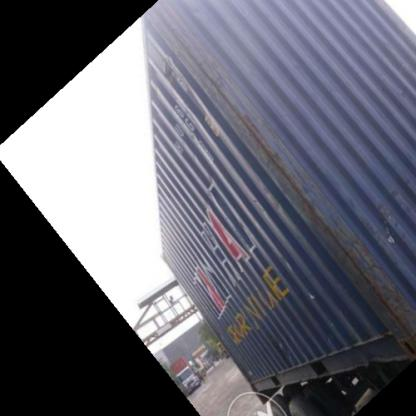Damage: (334, 185, 413, 338), (176, 26, 262, 162), (264, 124, 336, 250)
